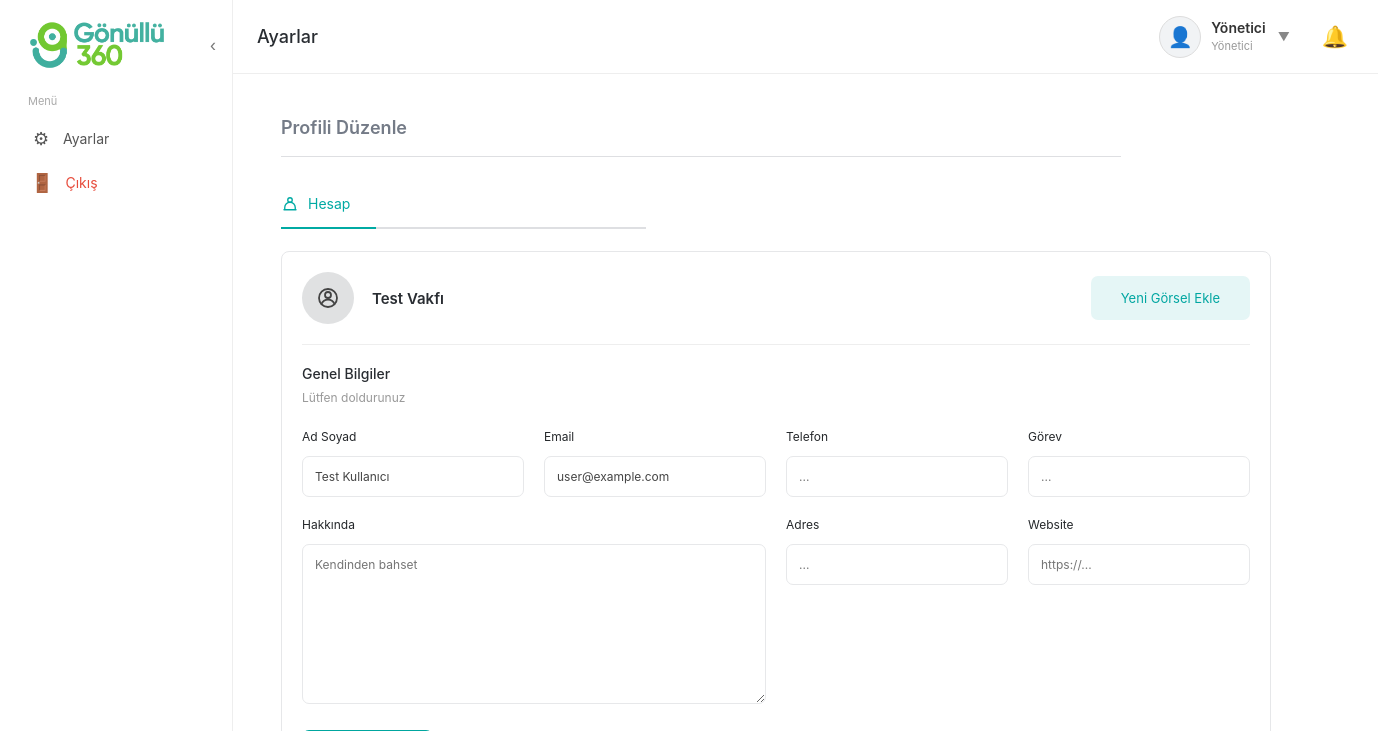
it: keeps edits and shows server errors when saving fails
Expected: the field showing "Test Kullanıcı" is shown, left=302, top=456, right=524, bottom=497
Replace the text in the field labelled "Email" with "duplicate@example.com". click: {"x": 655, "y": 476}
box: left=544, top=456, right=766, bottom=497
(page scrolled)
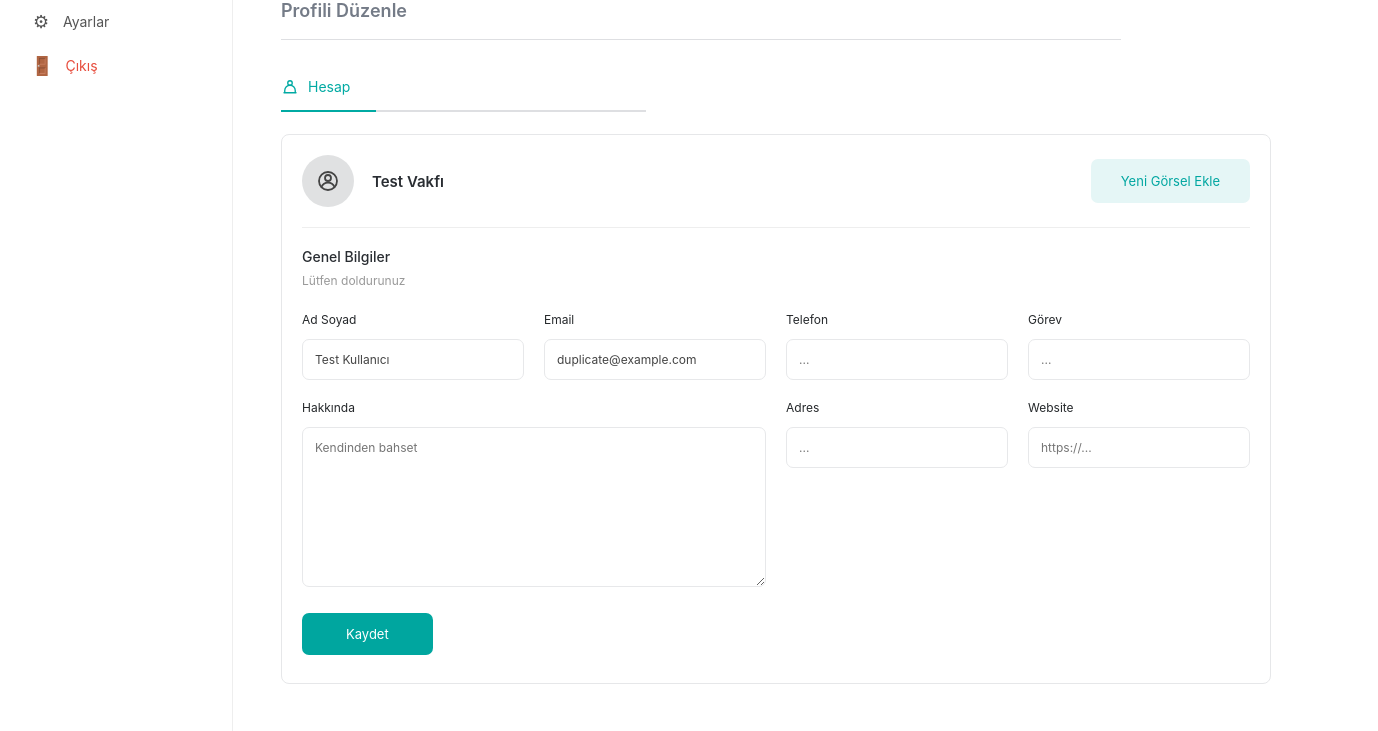
Click the button "Kaydet". click: {"x": 367, "y": 634}
box: left=302, top=613, right=433, bottom=655
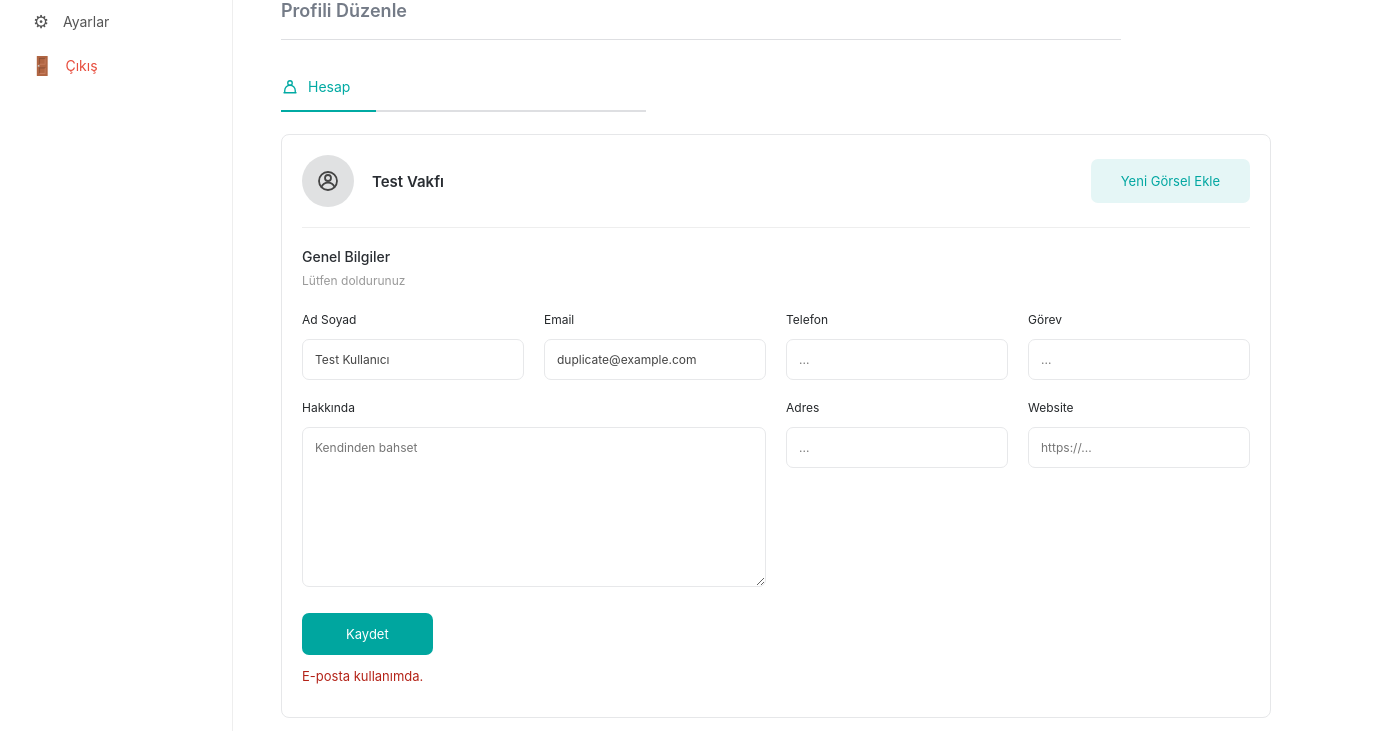
Expected: the message reads "E-posta kullanımda.", left=302, top=668, right=423, bottom=684
